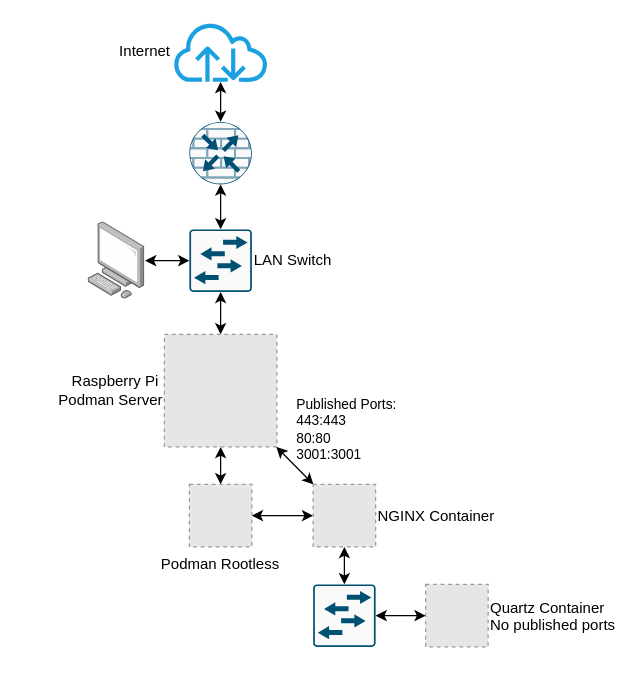
The diagram is 639 pixels wide and 695 high, and some of its shapes have lost their labels. Grey dashed boxes stand in for pictures. Here are the shapes that lost their labels. From the top down, the box of each, then its label:
(188, 121, 252, 184): Firewall/Router No NATs/ACLs for Podman server
(88, 221, 144, 299): Client PC
(312, 583, 376, 647): NGINX Network
